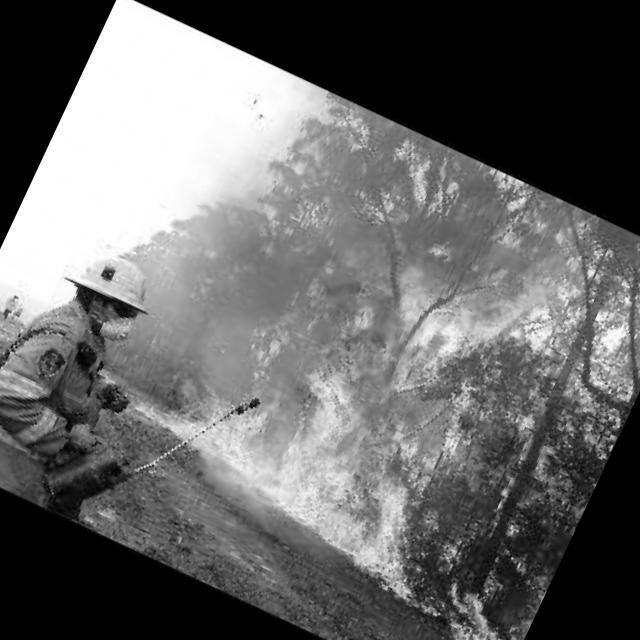fire: (157, 104, 640, 640)
